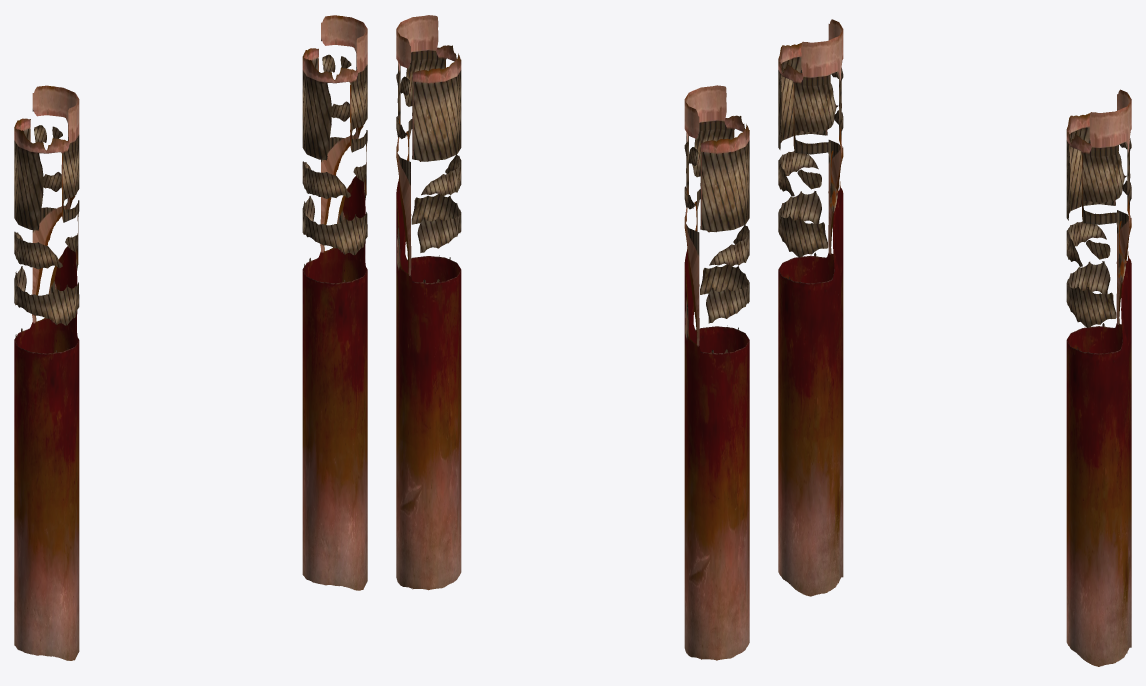
3 views of the same model, side by side, from view 1: azimuth 30°, elevation 25°; view 2: azimuth 150°, elevation 25°; view 3: azimuth 330°, elevation 25° (orthographic).
Parts seen in each view (by area): view 1: SM_Ranged_Fire_Oil_LOD0; view 2: SM_Ranged_Fire_Oil_LOD0; view 3: SM_Ranged_Fire_Oil_LOD0.
Part boxes in pixels (left/top/right/bottom): SM_Ranged_Fire_Oil_LOD0: left=14, top=15, right=367, bottom=660; SM_Ranged_Fire_Oil_LOD0: left=396, top=15, right=749, bottom=660; SM_Ranged_Fire_Oil_LOD0: left=778, top=19, right=1131, bottom=666.
Size of the model in its own units: 0.4881 by 0.7574 by 0.08.
